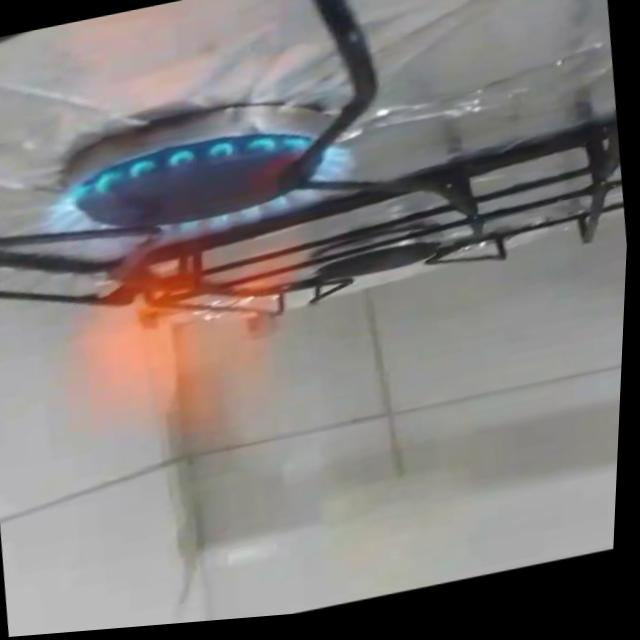Fire: (19, 115, 396, 494)
